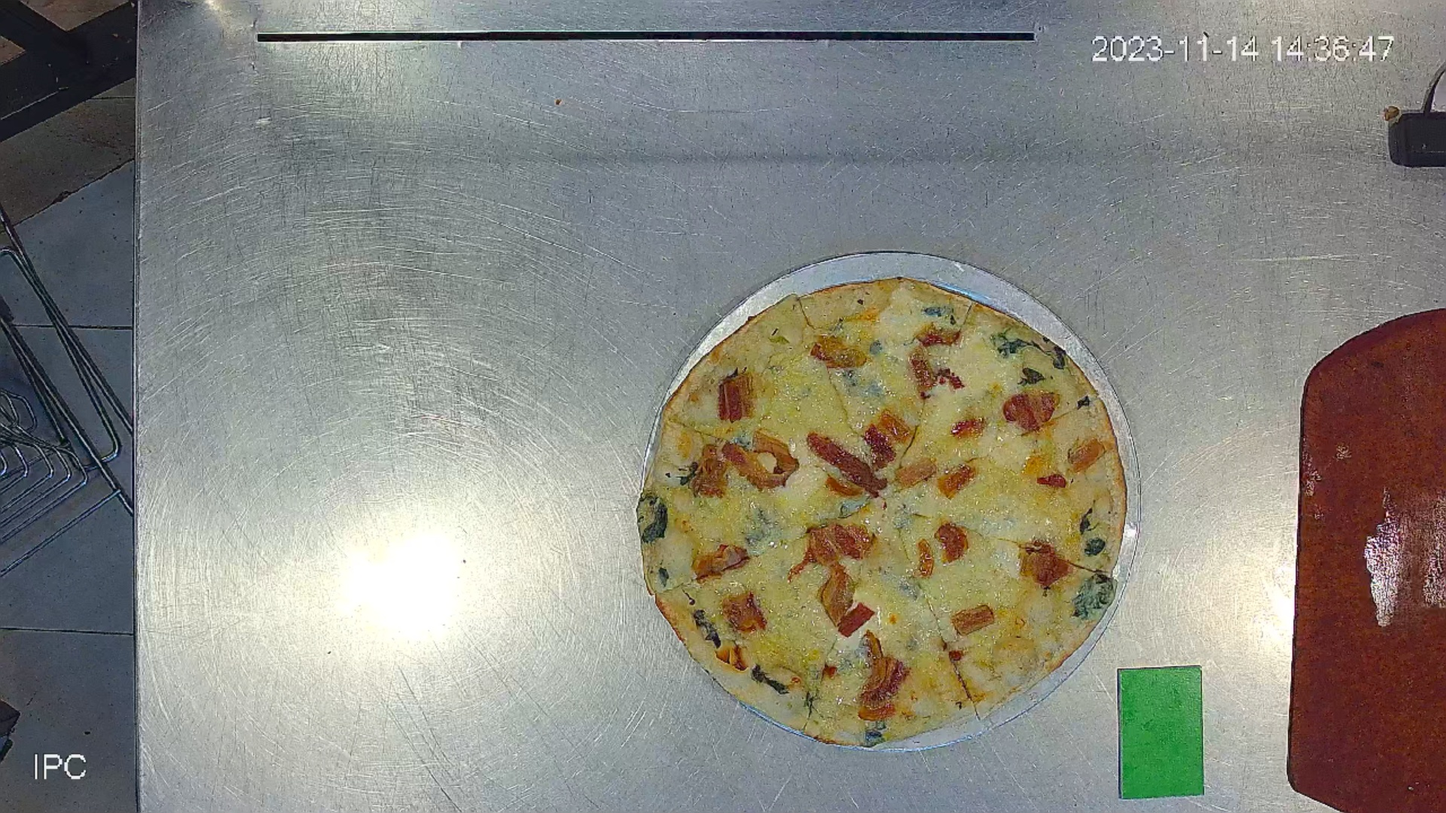pepporoni: (634, 275, 1129, 752)
